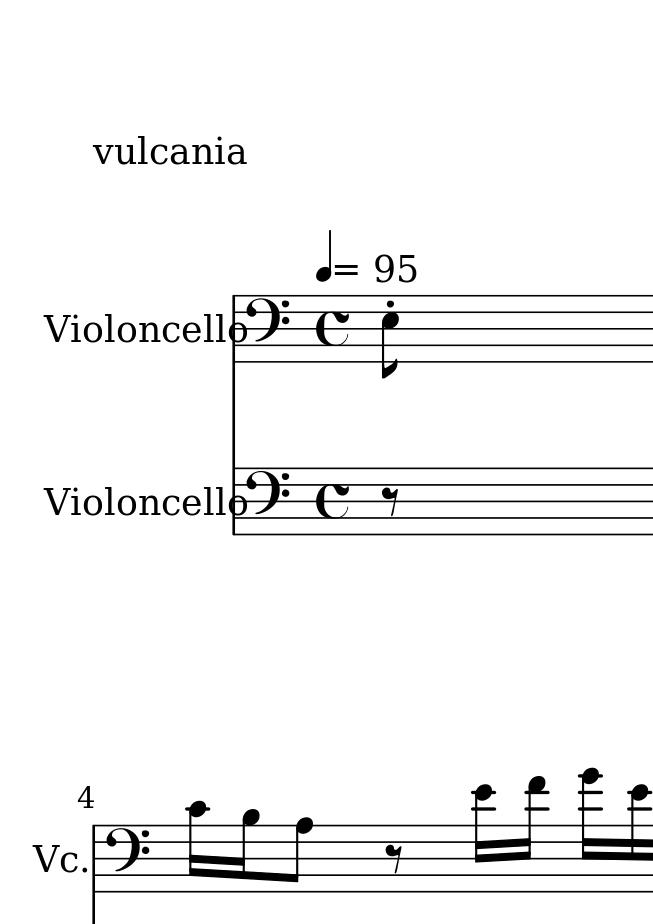16_10: (186, 800, 209, 894)
16_12: (627, 784, 653, 896), (471, 783, 495, 894)
16_13: (517, 775, 548, 895)
16_14: (578, 768, 603, 895)
16_9: (228, 808, 260, 894)
4: (77, 784, 95, 809)
5: (395, 252, 418, 285)
8_5: (379, 294, 401, 380)
8_8: (281, 815, 314, 895)
9: (371, 252, 394, 285)
Fclef: (104, 825, 152, 897), (246, 466, 294, 537), (246, 295, 292, 365)
Rests8: (379, 485, 402, 519), (383, 842, 406, 876)
Single_barline: (227, 294, 244, 365), (228, 467, 244, 537), (87, 824, 100, 893)
Speed4: (317, 227, 358, 282)
TimeSig: (315, 469, 355, 536), (316, 294, 351, 365), (315, 466, 350, 537), (316, 295, 352, 362)
Vc: (32, 838, 79, 876)
